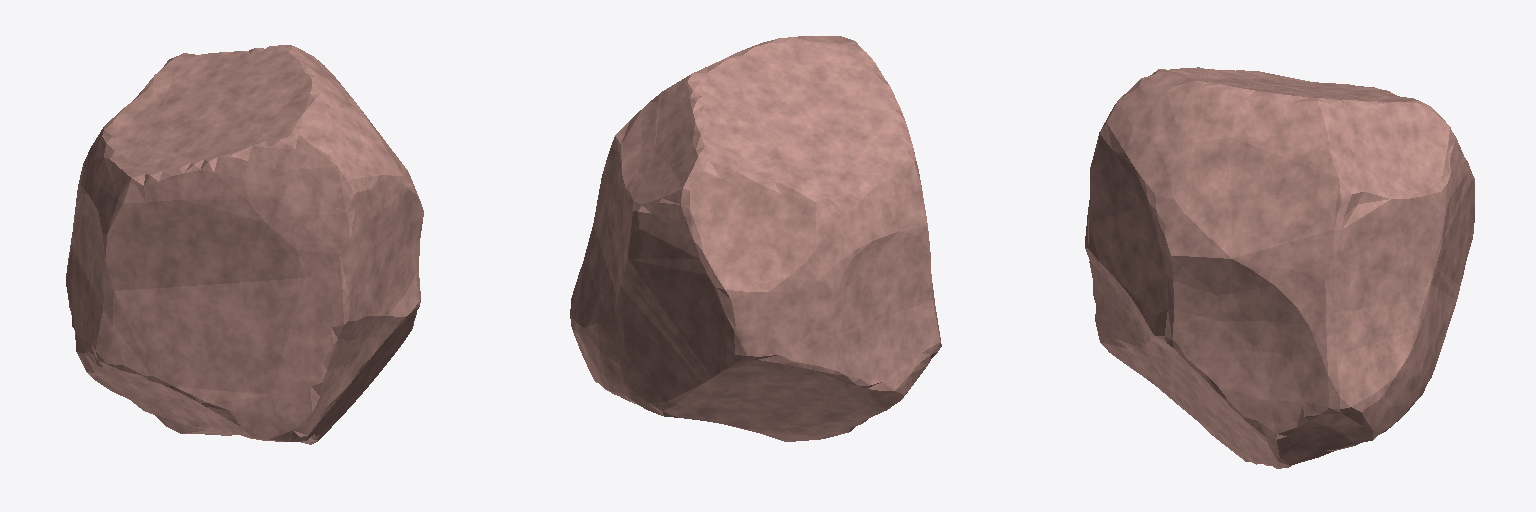
3 renders of one model, left to right at view 1: azimuth 30°, elevation 25°; view 2: azimuth 150°, elevation 25°; view 3: azimuth 270°, elevation 25°, orthographic.
Visible parts, largest first — view 1: Roundcube; view 2: Roundcube; view 3: Roundcube.
Part boxes in pixels (left/top/right/bottom): Roundcube: left=66, top=45, right=423, bottom=444; Roundcube: left=570, top=36, right=941, bottom=441; Roundcube: left=1085, top=67, right=1474, bottom=468.
Bounding box in the file's own units: 1.91 × 2.03 × 1.94.
Materials: 1 (1 with a texture image).